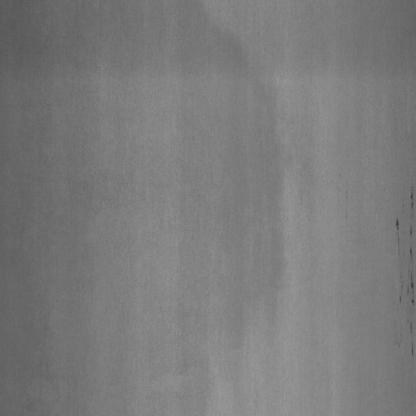inclusion: (394, 218, 406, 234), (405, 190, 415, 209), (406, 317, 415, 338), (405, 246, 416, 260), (407, 273, 415, 289), (408, 222, 414, 237), (398, 289, 403, 304)
